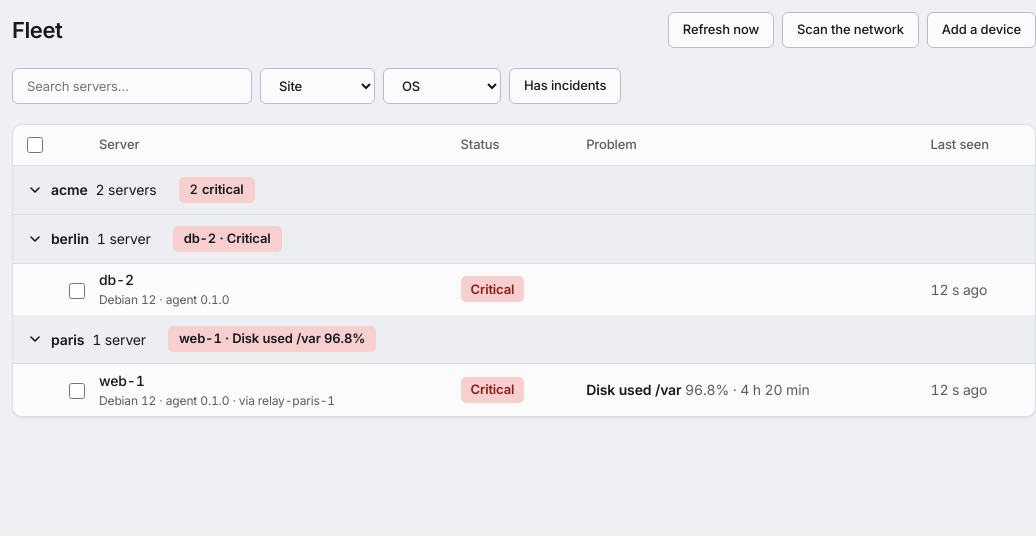
FleetOverview › silences the checked servers the user may change
Click the checkbox named "Select web-1" at (77,391), box [69,383,85,399]
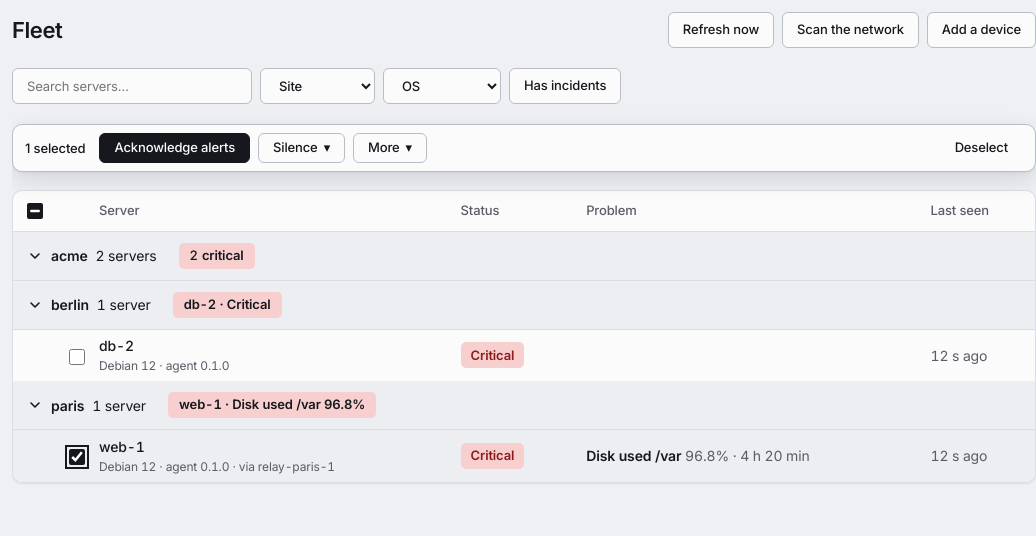
Click the checkbox named "Select db-2" at (77,357), box [69,349,85,365]
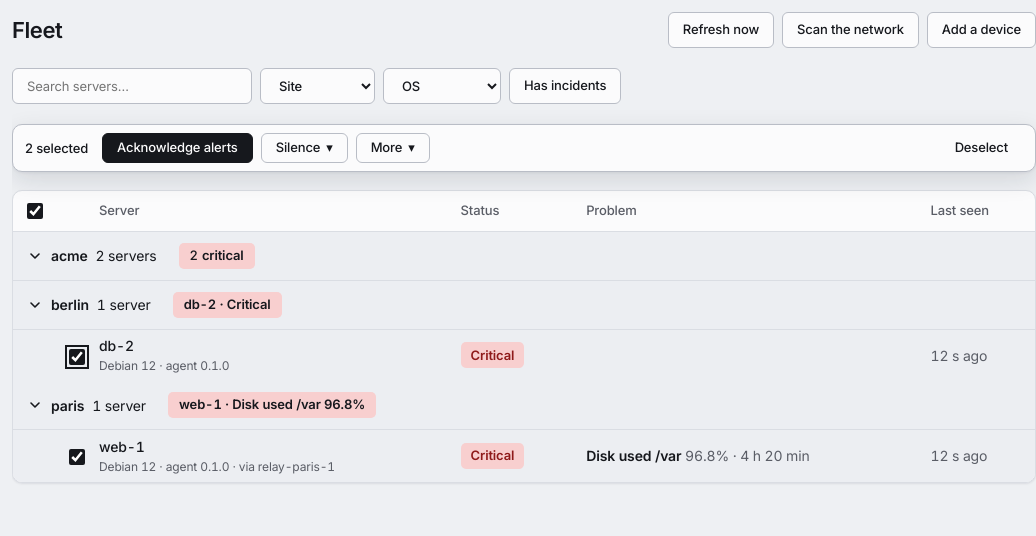
Click the button with aria-label "Silence the 2 selected servers" at (304,148), box [261,133,348,163]
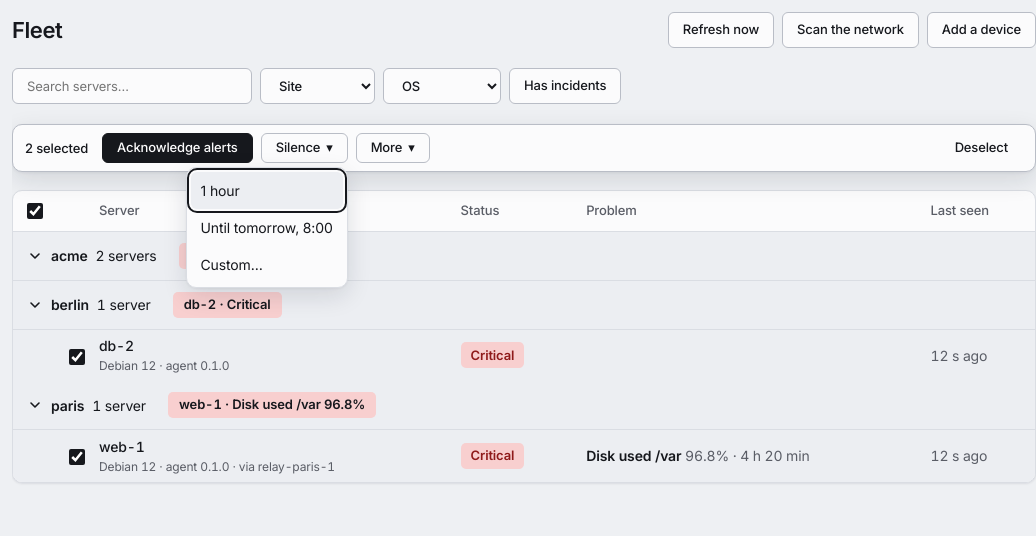
Click the menu item "Until tomorrow, 8:00" at (267,228), box [190,209,343,246]
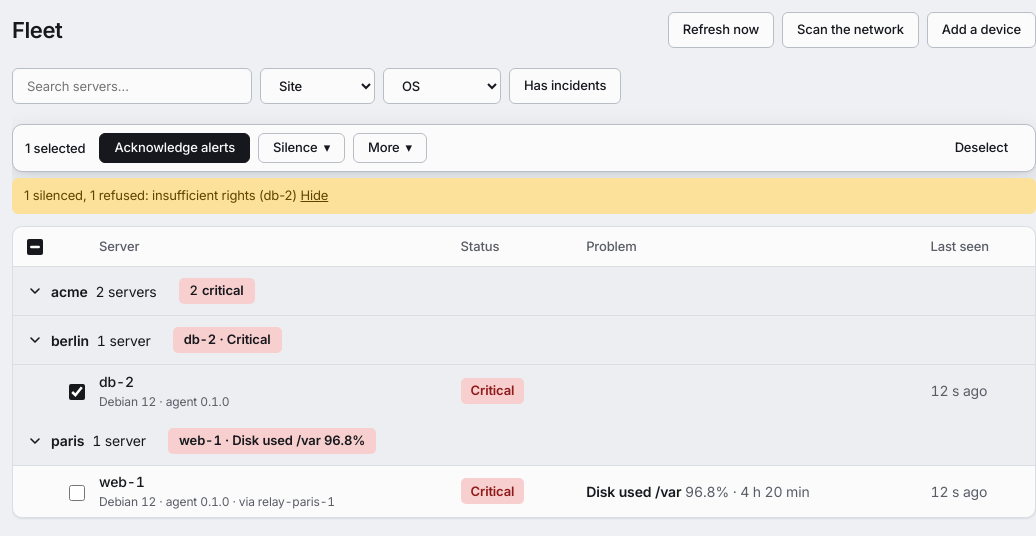
Result: the checkbox named "Select db-2" is checked at [69,384,85,400]
Result: the text "1 silenced, 1 refused: insufficient rights (db-2) Hide" is shown at [12,178,1035,214]
